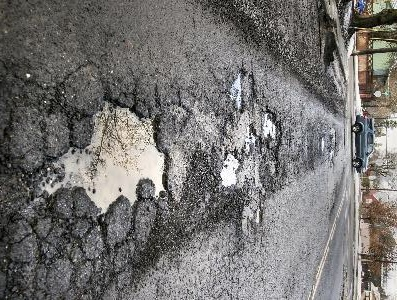pothole: (33, 92, 174, 222), (228, 68, 257, 114), (261, 108, 285, 150), (216, 149, 241, 189), (245, 120, 263, 153), (253, 206, 264, 225)
